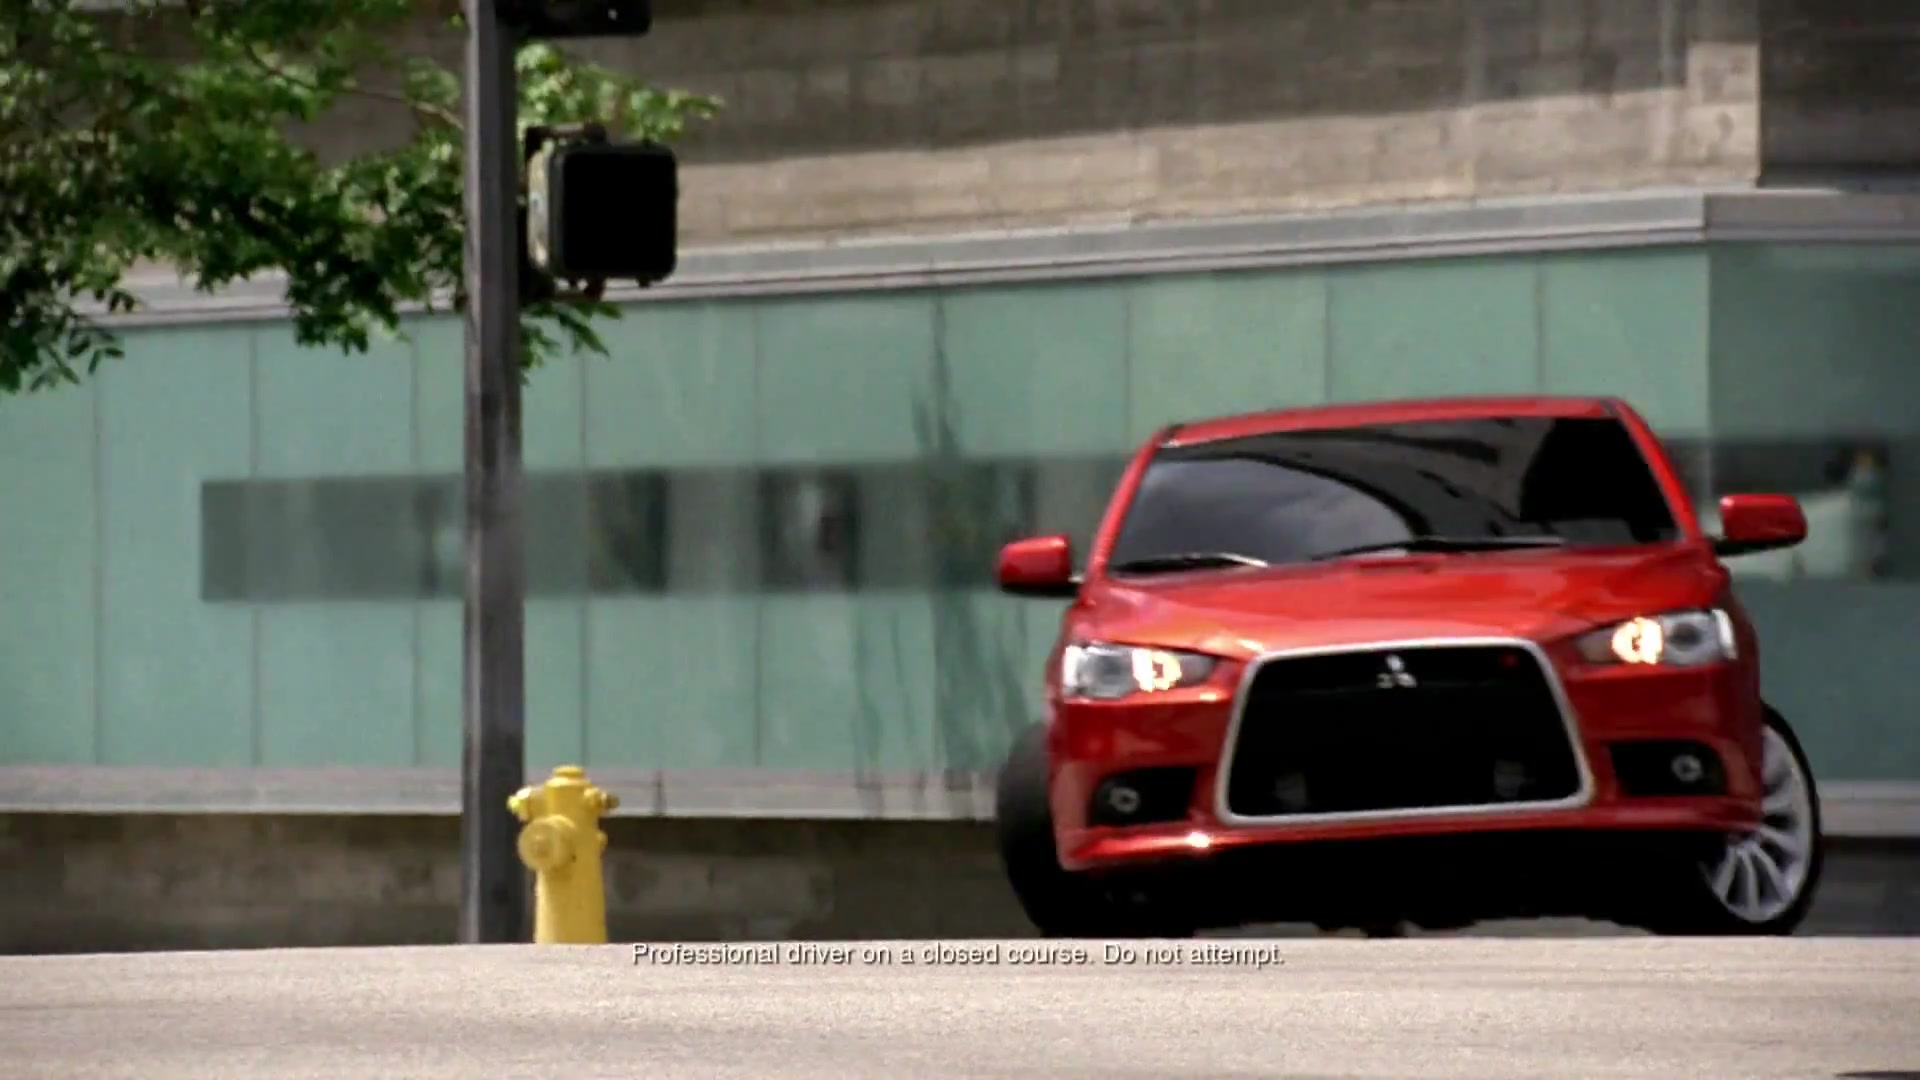car: (997, 405, 1826, 928)
